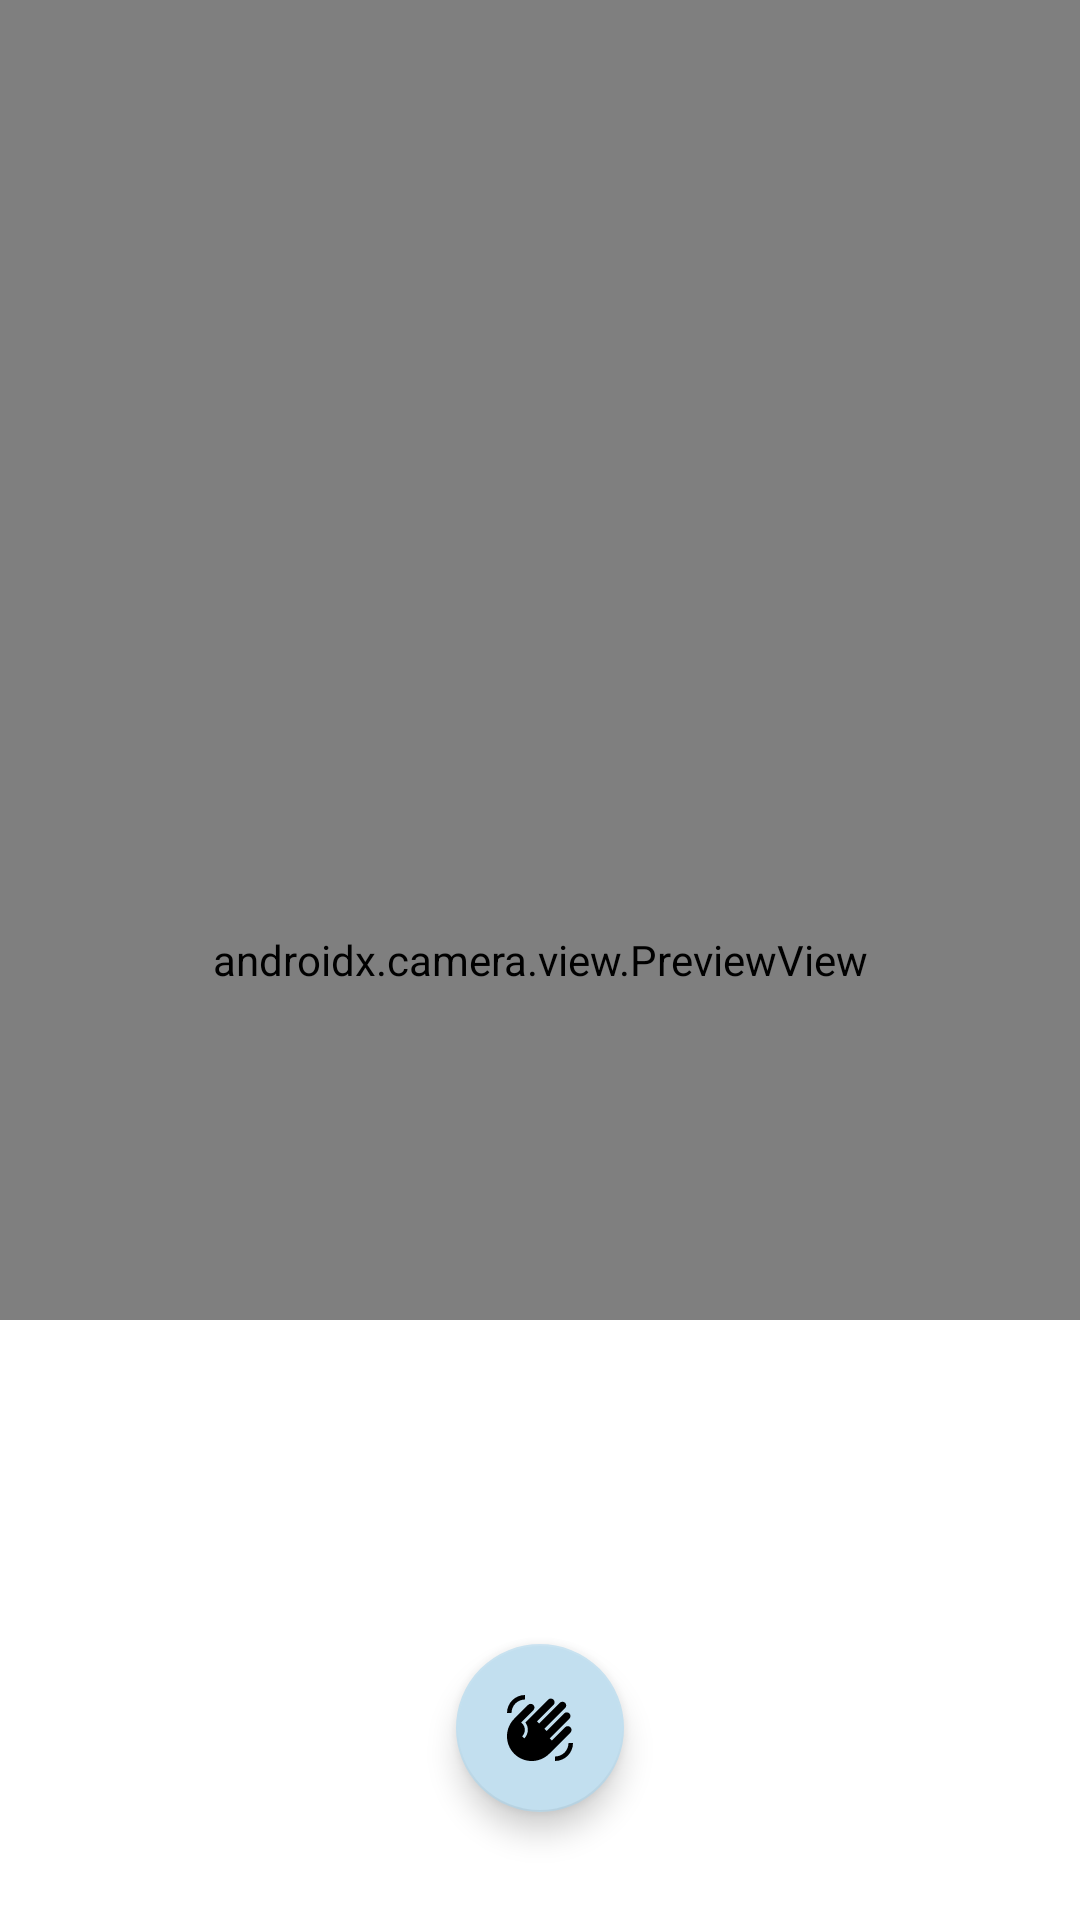

Icons on this 1080w x 1920h Android screen, each with the point to tap as (x=x, y=y):
palm: (x=540, y=1728)
